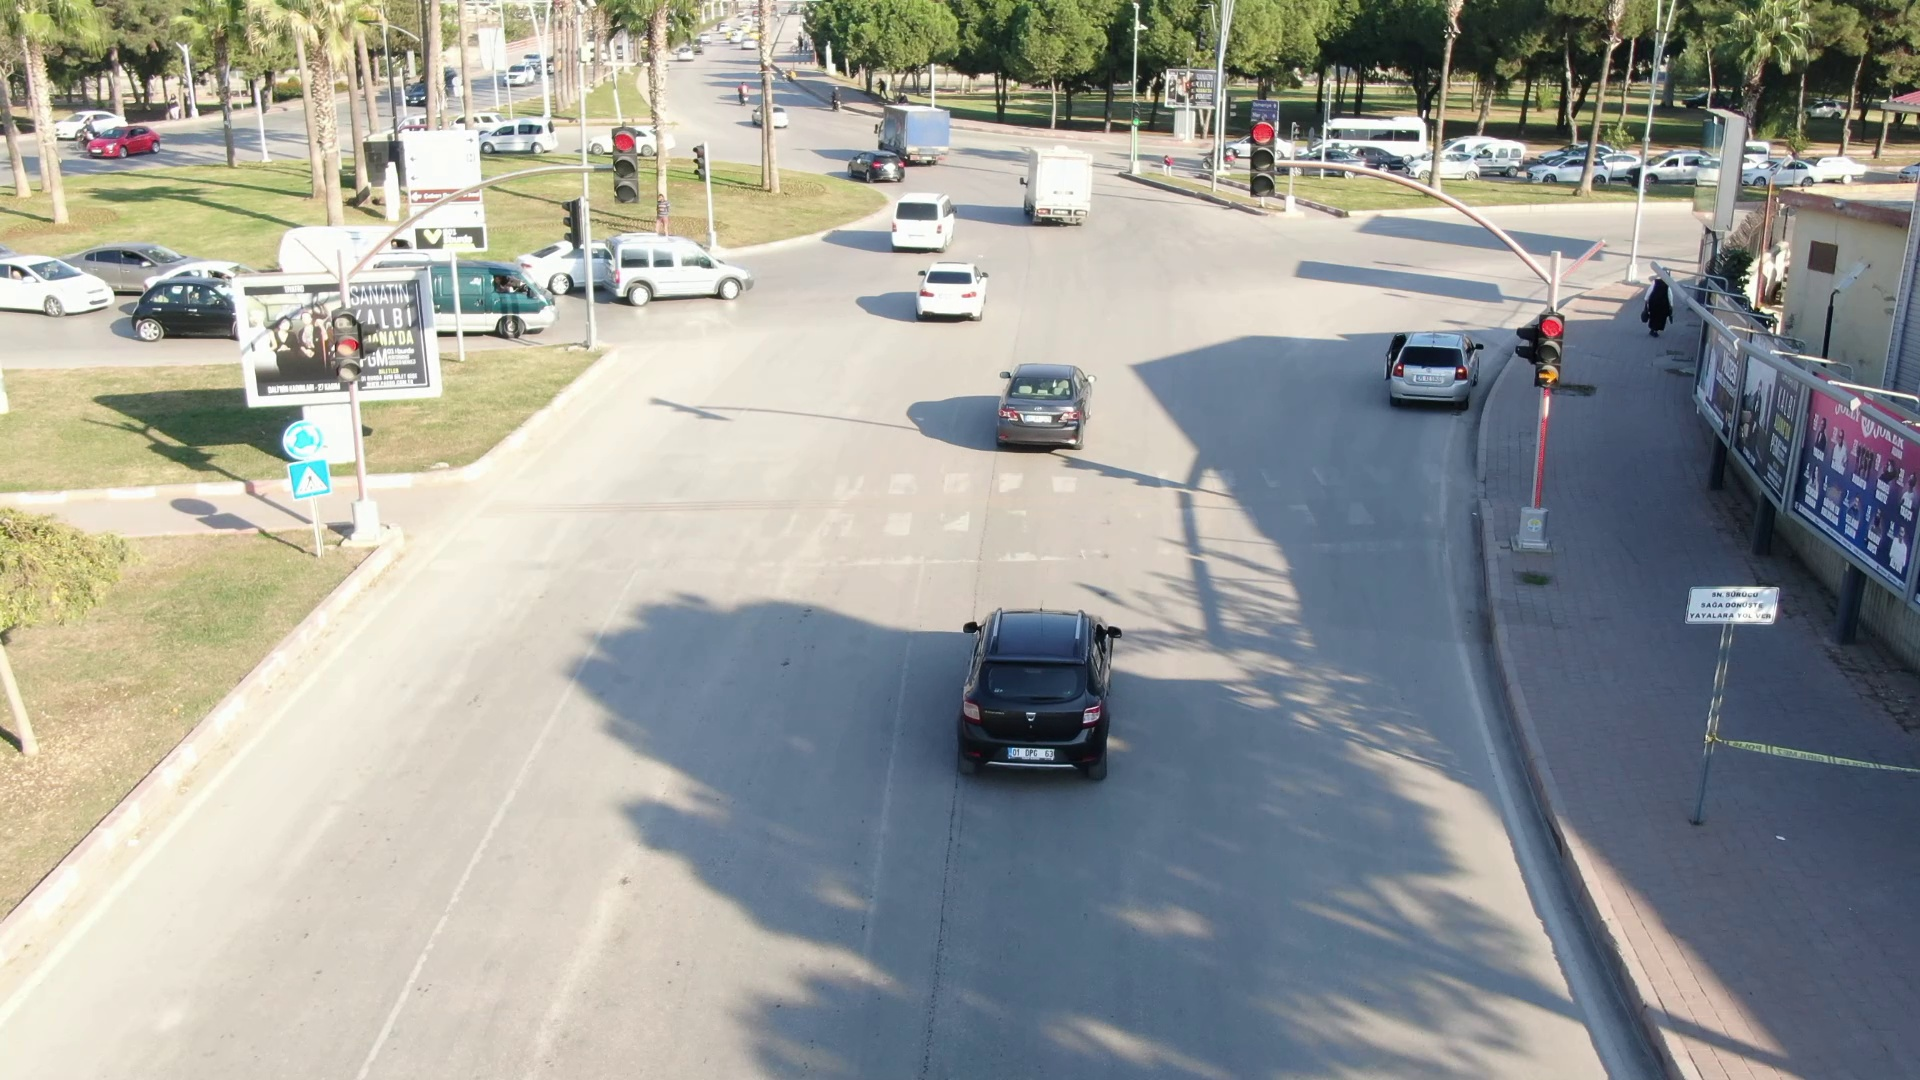car: (928, 580, 1132, 799), (984, 343, 1106, 465), (598, 226, 765, 314), (1375, 321, 1486, 416), (1, 241, 121, 325), (903, 254, 999, 328), (1015, 144, 1093, 229), (879, 187, 963, 253), (840, 148, 912, 188)
person: (1633, 263, 1689, 341)
